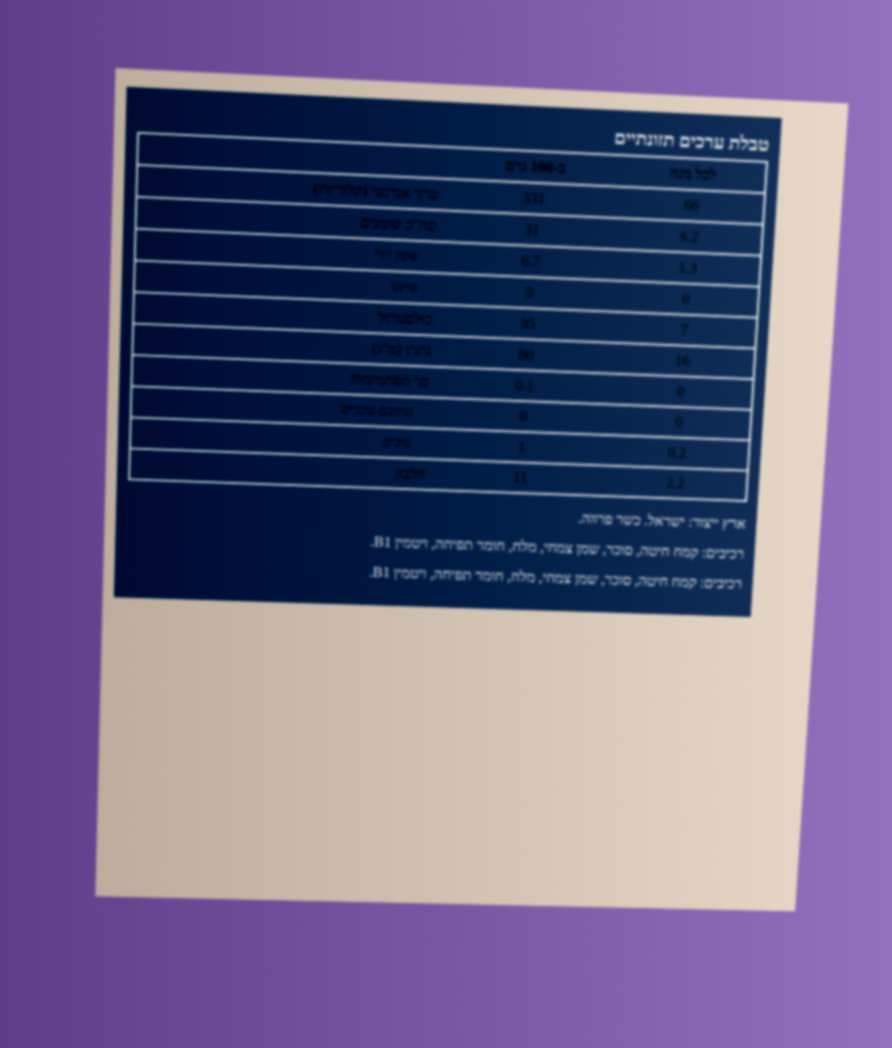carbs: (513, 375, 536, 395)
energy: (520, 188, 548, 209)
fat: (523, 219, 542, 240)
protein: (511, 468, 530, 487)
